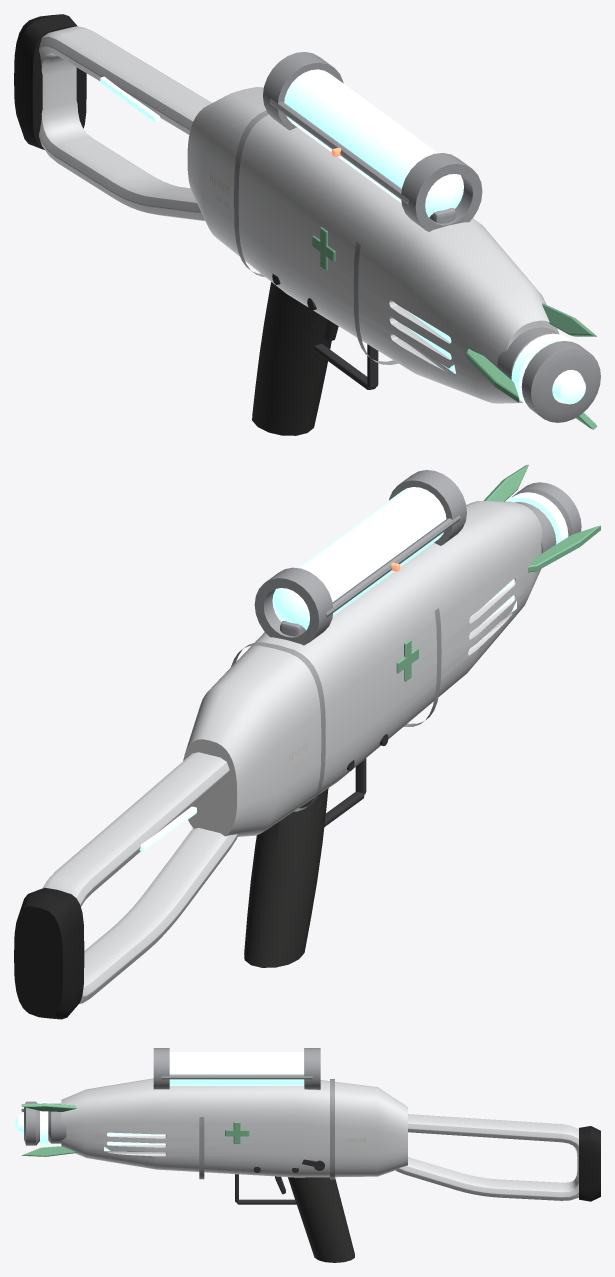
Rendered from reverser.glb.
The picture shows the model from 3 angles, top to bottom: view 1: azimuth 30°, elevation 25°; view 2: azimuth 150°, elevation 25°; view 3: azimuth 270°, elevation 25°; orthographic projection. The views are drawn at different scales.
Parts seen in each view (by area): view 1: Body; view 2: Body; view 3: Body.
Part boxes in pixels (x1,y1,x2,y2): Body: (14,14,600,435); Body: (14,464,600,1019); Body: (14,1048,600,1262).
Size of the model in its own units: 0.0642 by 0.2264 by 0.584.
